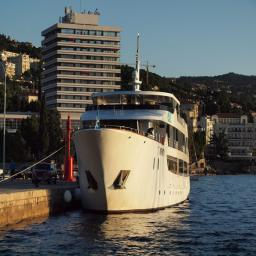cruises: (71, 87, 194, 221)
